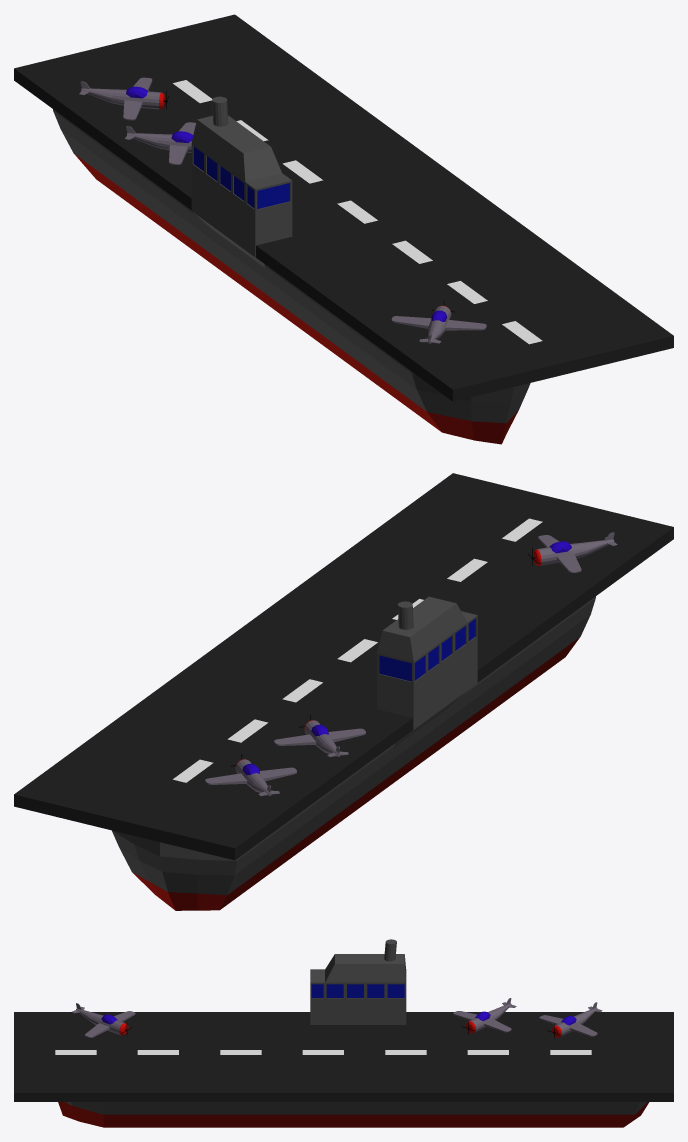
Rendered from four_tile_ship.fbx.
The picture shows the model from 3 angles, top to bottom: view 1: azimuth 30°, elevation 25°; view 2: azimuth 150°, elevation 25°; view 3: azimuth 270°, elevation 25°; orthographic projection. The views are drawn at different scales.
Visible parts, largest first — view 1: Road, hull, Cube.005, Cylinder.001, Cylinder.003, Cylinder.002; view 2: Road, hull, Cube.005, Cylinder.003, Cylinder.001, Cylinder.002; view 3: Road, hull, Cube.005, Cylinder.003, Cylinder.001, Cylinder.002.
Boxes of the visible parts, left/top/right/bottom form: Road: left=14, top=14, right=673, bottom=401; hull: left=53, top=109, right=530, bottom=444; Cube.005: left=191, top=115, right=292, bottom=267; Cylinder.001: left=79, top=77, right=168, bottom=120; Cylinder.003: left=391, top=300, right=486, bottom=343; Cylinder.002: left=125, top=122, right=195, bottom=164; Road: left=14, top=473, right=673, bottom=860; hull: left=112, top=596, right=595, bottom=910; Cube.005: left=377, top=596, right=477, bottom=747; Cylinder.003: left=528, top=532, right=617, bottom=572; Cylinder.001: left=205, top=754, right=296, bottom=796; Cylinder.002: left=274, top=715, right=365, bottom=757; Road: left=14, top=1012, right=673, bottom=1101; hull: left=58, top=1102, right=649, bottom=1127; Cube.005: left=310, top=954, right=406, bottom=1024; Cylinder.003: left=72, top=1003, right=135, bottom=1037; Cylinder.001: left=539, top=1002, right=602, bottom=1038; Cylinder.002: left=453, top=998, right=516, bottom=1034.
Bounding box in the file's own units: 8.15 × 2.05 × 2.38.
